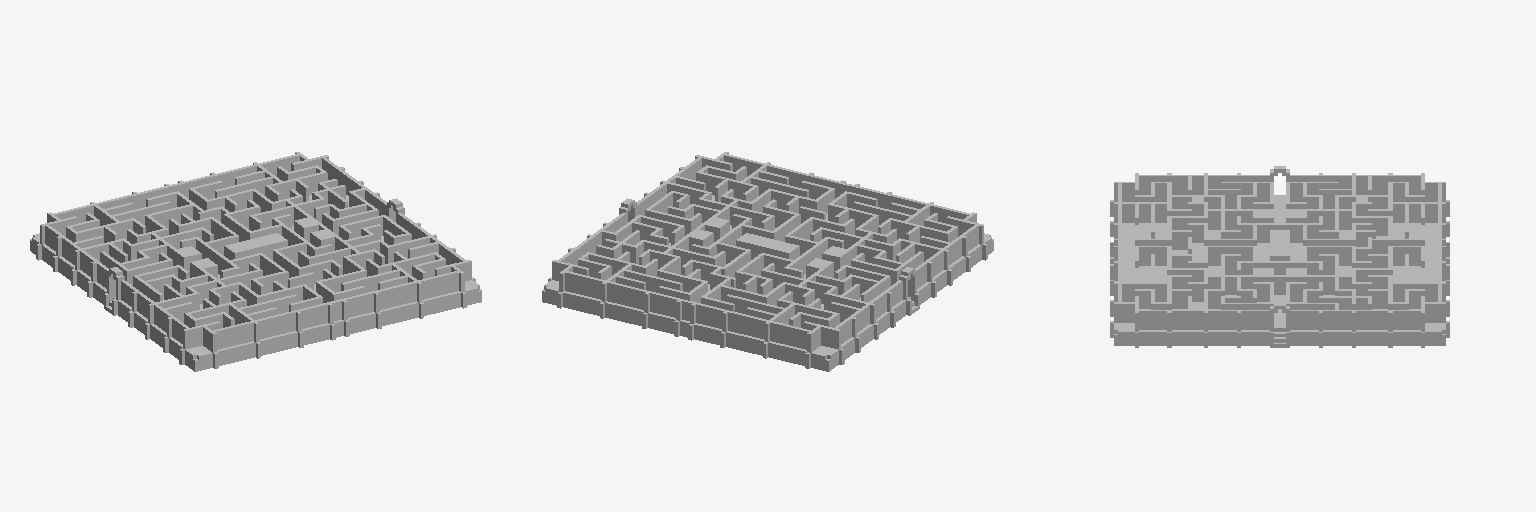
Rendered from Laberinto1.obj.
3 renders of one model, left to right at view 1: azimuth 30°, elevation 25°; view 2: azimuth 150°, elevation 25°; view 3: azimuth 270°, elevation 25°, orthographic.
Visible parts, largest first — view 1: Maze; view 2: Maze; view 3: Maze.
Boxes of the visible parts, x1,y1,x2,y2 form: Maze: [30, 152, 481, 371]; Maze: [542, 152, 993, 371]; Maze: [1110, 166, 1449, 347].
Size of the model in its own units: 159 by 21.08 by 159.